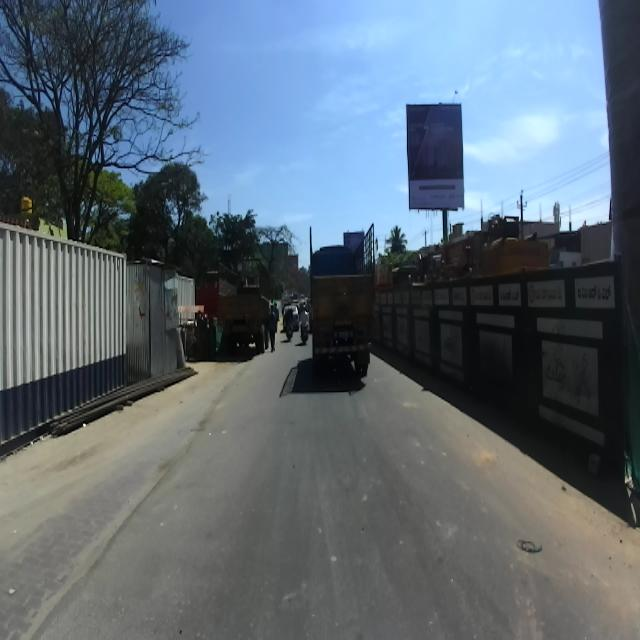truck ahead at: (307, 225, 379, 378), (207, 258, 277, 375)
